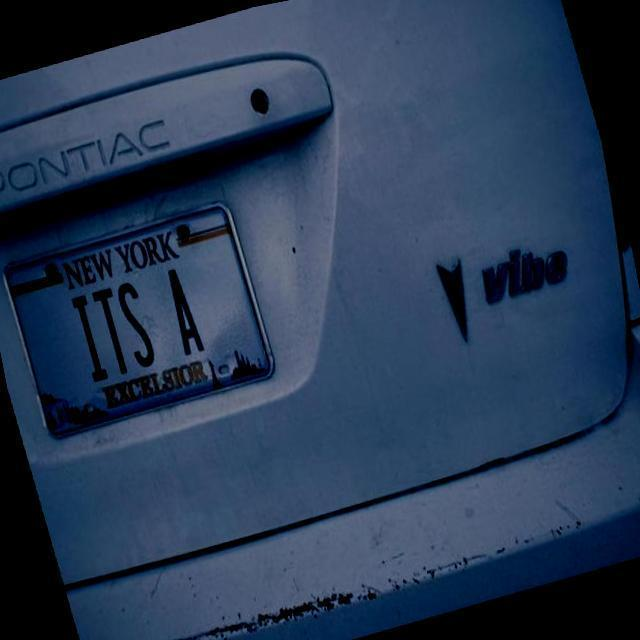License Plate: (0, 0, 272, 48)
